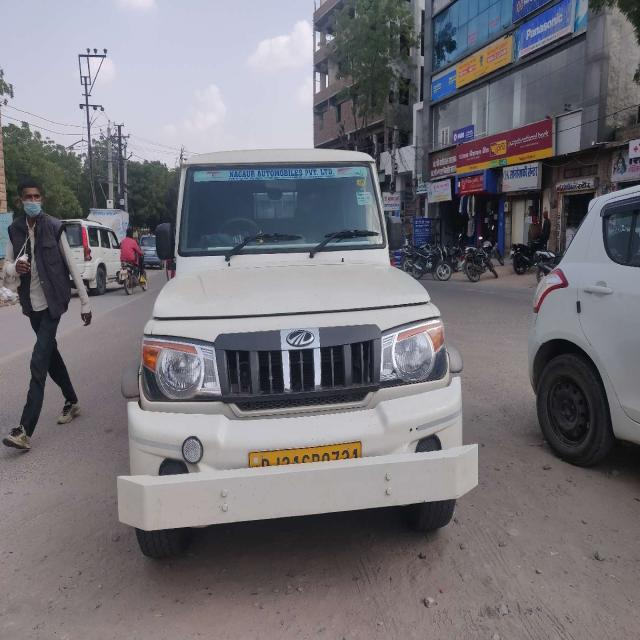light_vehicle: (132, 151, 468, 533)
